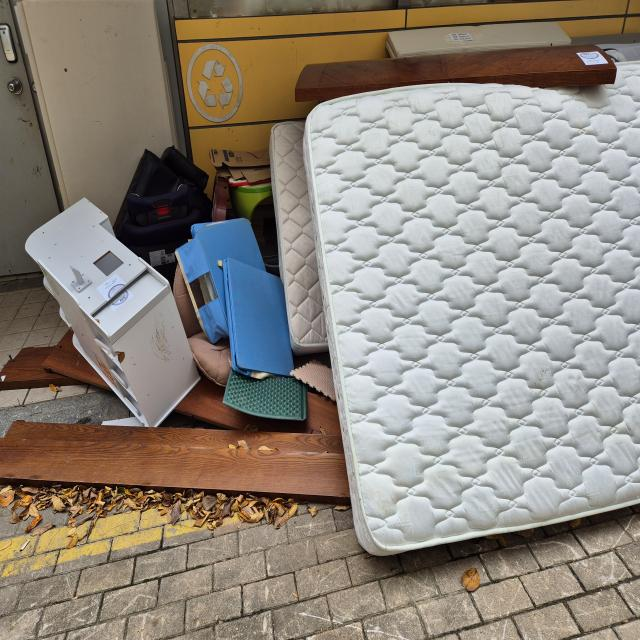Large Waste Items: (300, 79, 640, 564), (20, 192, 209, 442), (262, 108, 344, 364), (218, 354, 316, 435)
